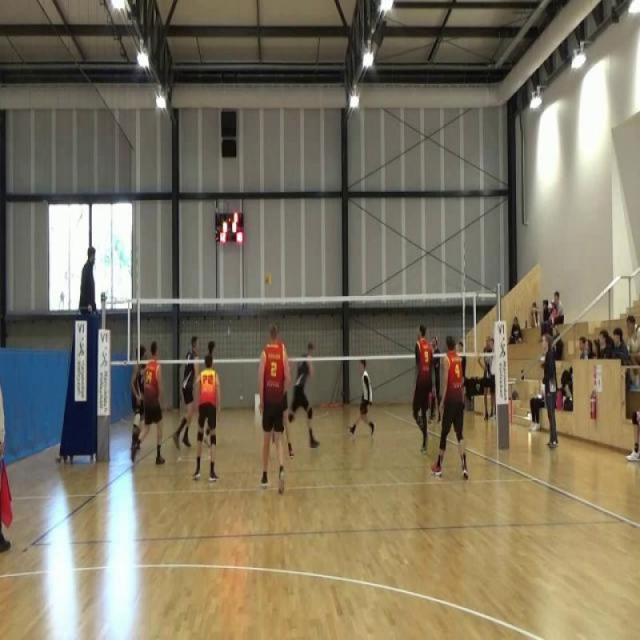volleyball: (264, 270, 272, 290)
